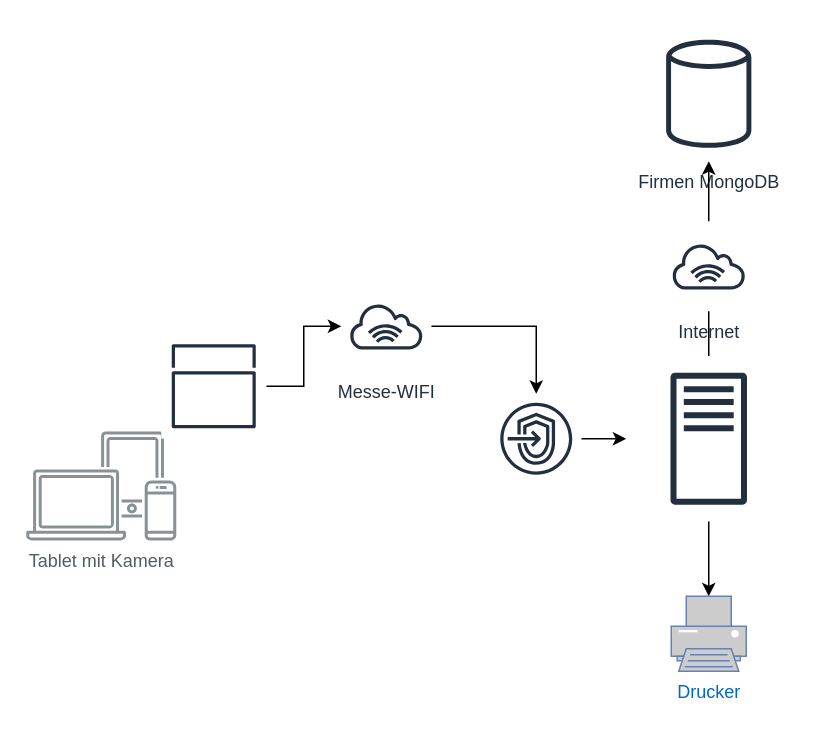
Image size: 818x729. Some labels were removed from this diagram. The box of each missing label's shape, as (x1, y1, x2, y2) in pixels:
Backend: (625, 355, 791, 521)
Programm: (160, 332, 266, 439)
REST Endpoints: (490, 392, 581, 484)
